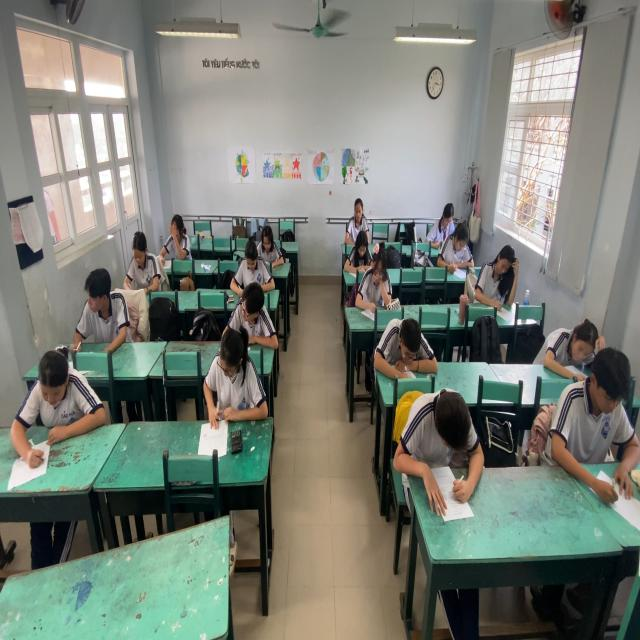cheating: (220, 280, 276, 336)
not_cheating: (405, 368, 474, 512), (573, 344, 633, 496), (20, 342, 95, 444), (207, 329, 266, 424), (72, 260, 126, 352), (471, 235, 522, 318), (542, 315, 604, 377), (384, 298, 428, 382), (438, 210, 478, 270), (231, 244, 274, 298), (358, 241, 389, 313), (123, 220, 153, 288), (250, 220, 286, 269), (161, 211, 190, 259), (431, 194, 452, 245), (346, 226, 368, 270), (348, 198, 370, 240)
